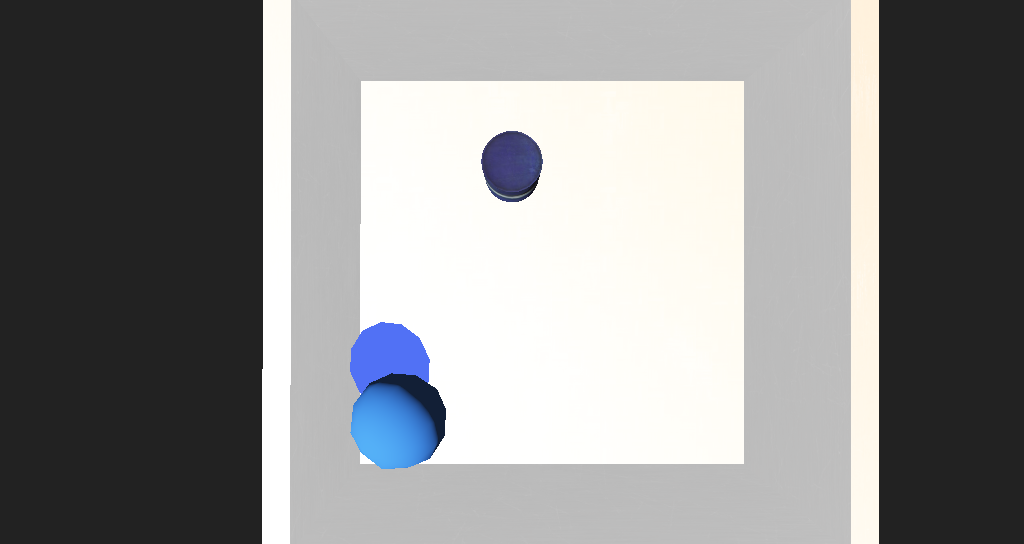cone: (448, 191, 495, 229)
cylinder: (340, 286, 441, 344)
sphere: (350, 322, 418, 375)
